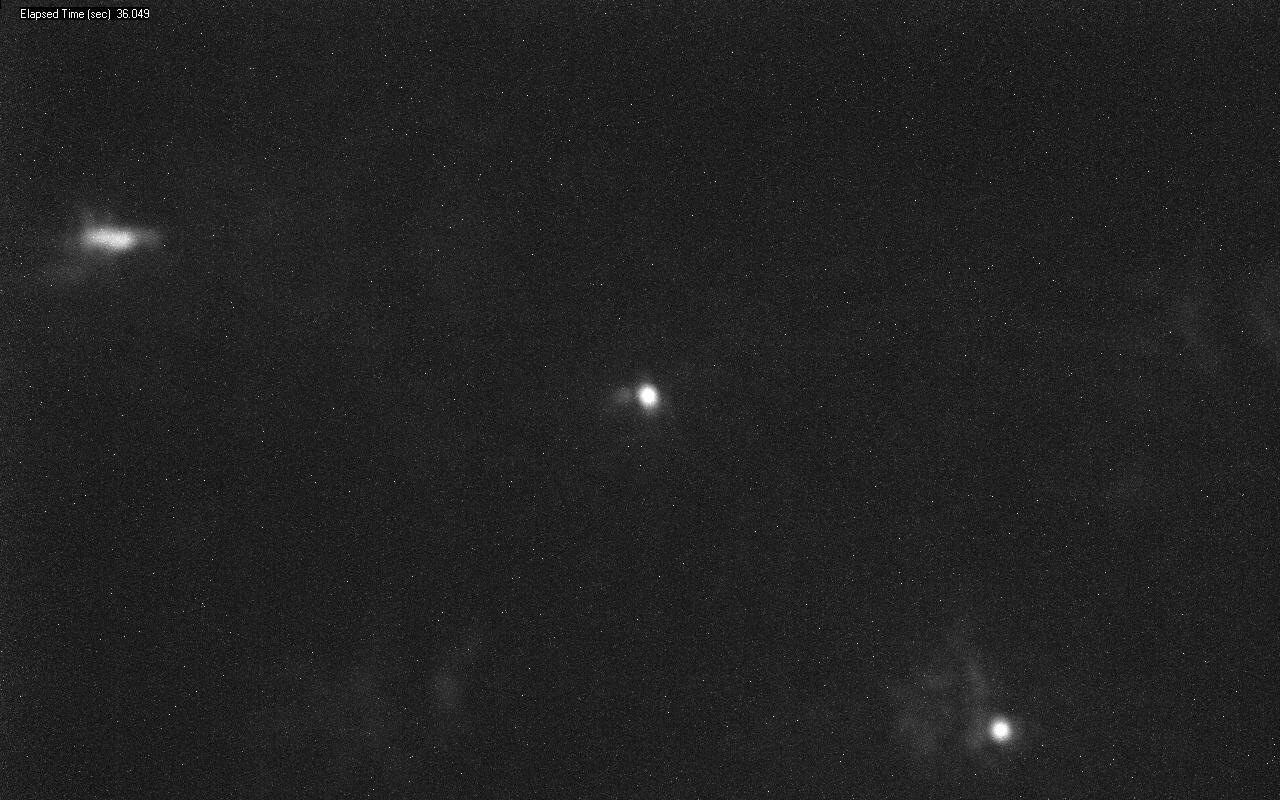Bead: (637, 385, 658, 408), (990, 719, 1010, 741)
